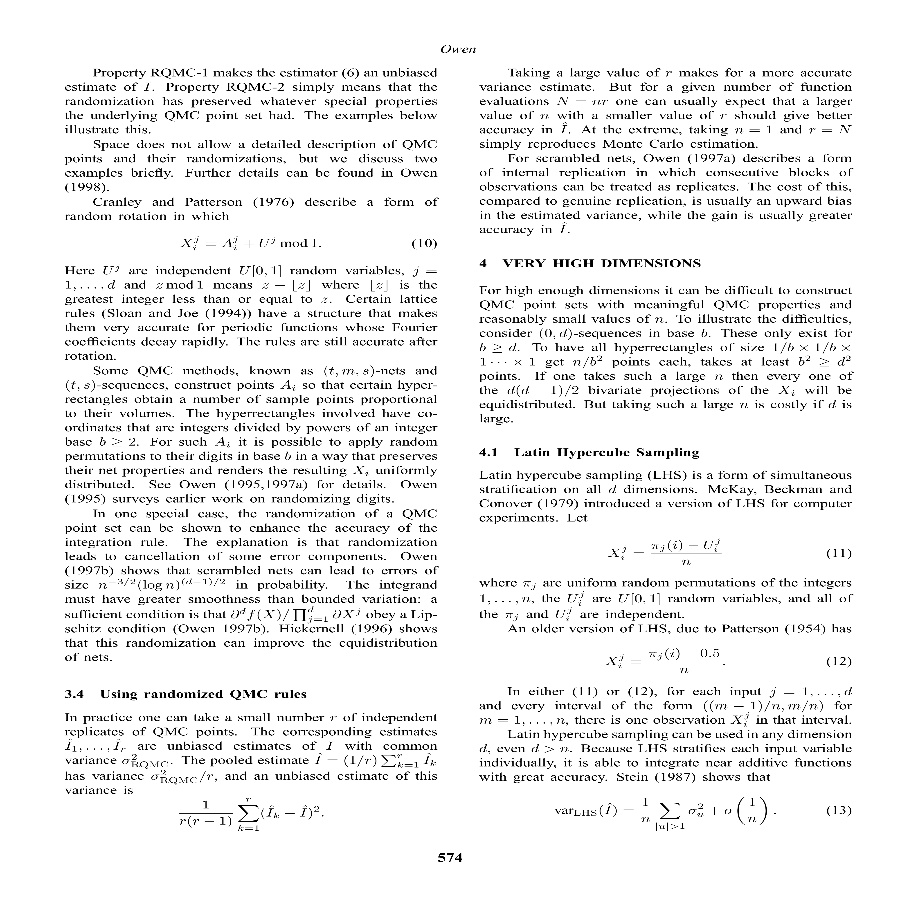eq: (552, 794, 769, 831), (177, 793, 321, 834), (604, 534, 730, 569), (607, 645, 720, 681), (179, 231, 322, 258)
